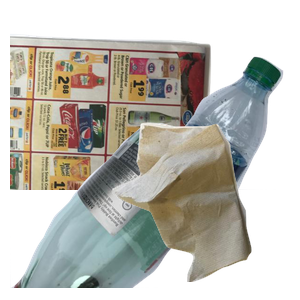glass: (10, 120, 224, 300)
paper: (10, 31, 214, 211)
plastic: (142, 54, 300, 234)
trash: (109, 120, 300, 300)
